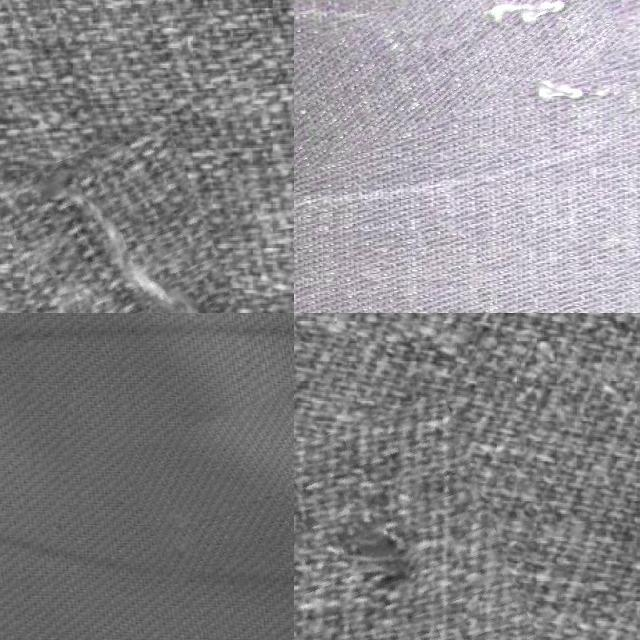Thread_other: (294, 0, 626, 210), (17, 132, 261, 313), (128, 351, 294, 554)
seam: (294, 405, 530, 640)
